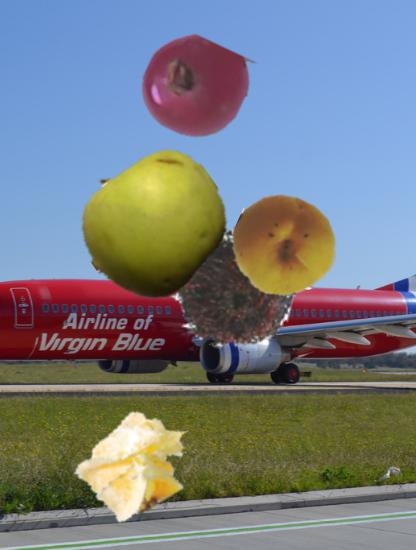Apple: (81, 151, 228, 298)
Peach: (231, 194, 337, 300)
Physalis: (77, 402, 200, 525)
Rambutan: (161, 220, 296, 355)
Redcurrant: (142, 34, 248, 140)
